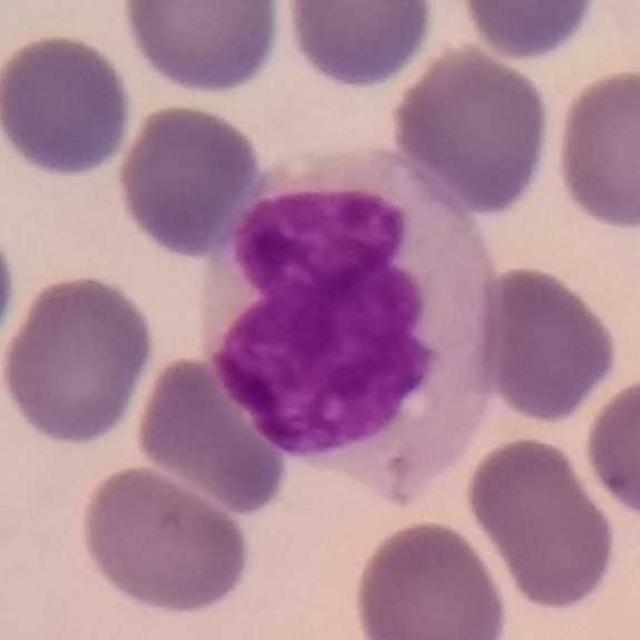mono: (191, 145, 510, 511)
